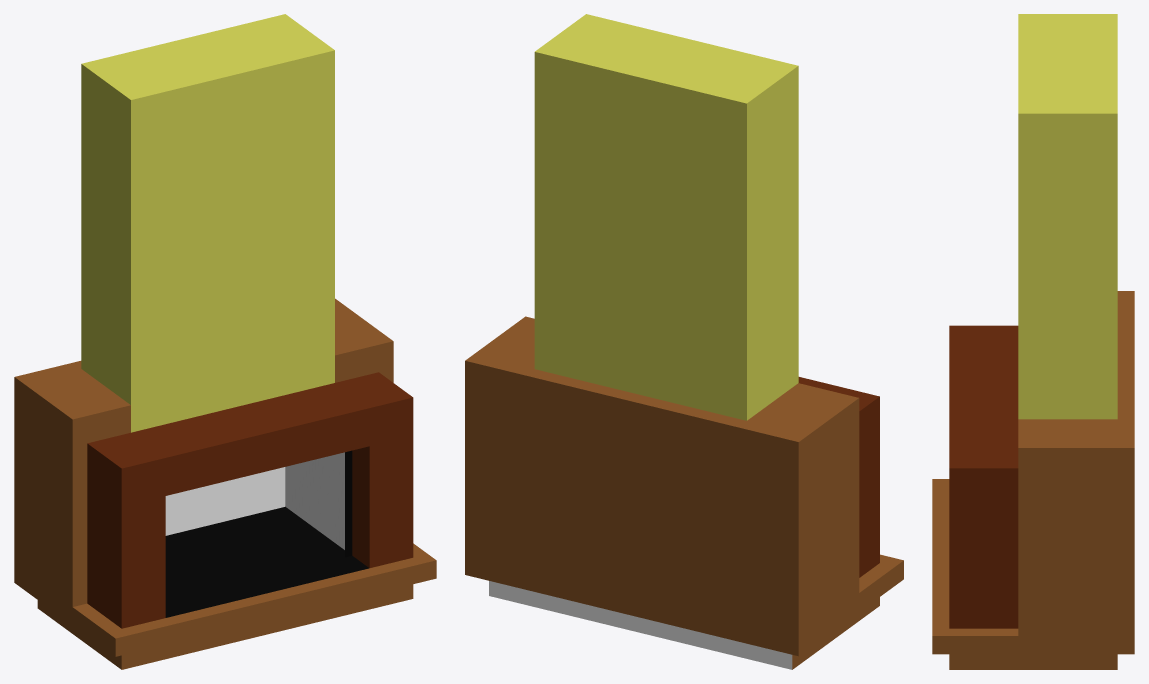
Rendered from Chimenea.fbx.
The picture shows the model from 3 angles, left to right: view 1: azimuth 30°, elevation 25°; view 2: azimuth 150°, elevation 25°; view 3: azimuth 270°, elevation 25°; orthographic projection. The views are drawn at different scales.
Parts seen in each view (by area): view 1: Model; view 2: Model; view 3: Model.
Part boxes in pixels (x1,y1,x2,y2): Model: (14, 14, 436, 669); Model: (465, 14, 903, 669); Model: (932, 14, 1134, 669).
Bounding box in the file's own units: 2.2 × 3.5 × 1.2.
